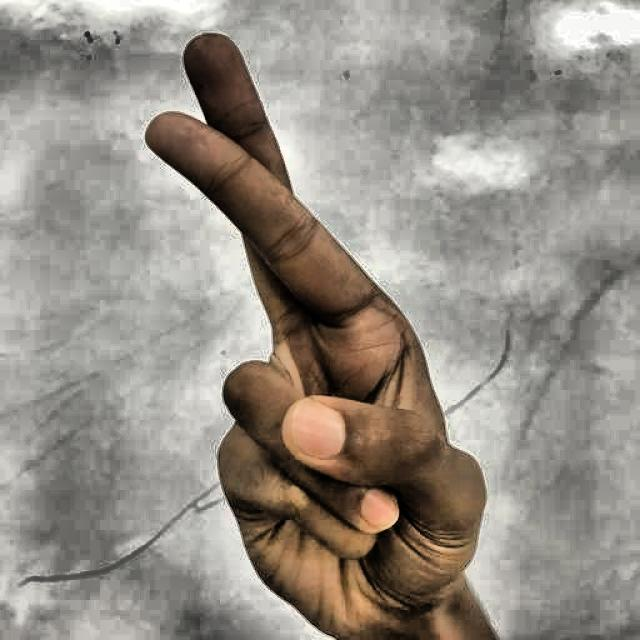Ra: (95, 16, 522, 639)
